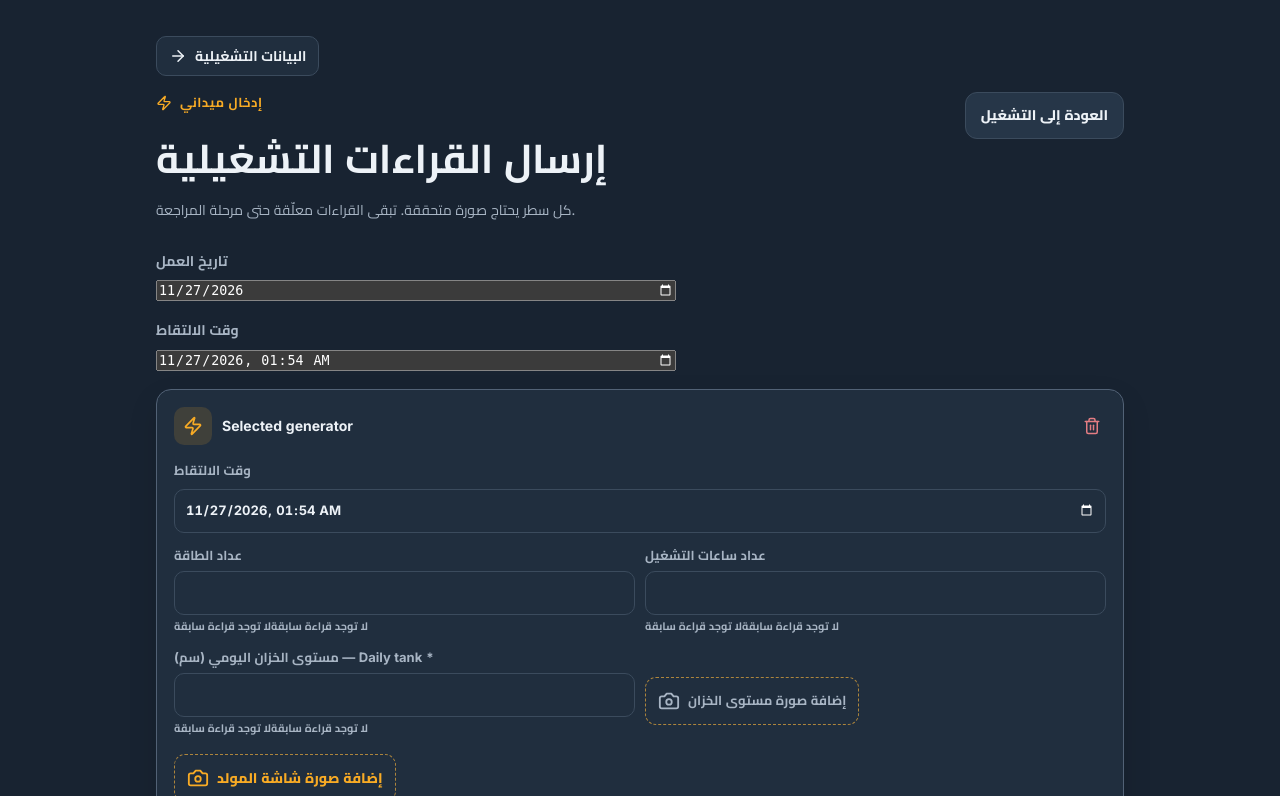
Test: surfaces readable InvalidOperationException and ArgumentOutOfRangeException messages from level-to-litres in UI
Step 1. Type "15" into the 3rd number field → {"x": 404, "y": 695}, box [174,673,635,717]
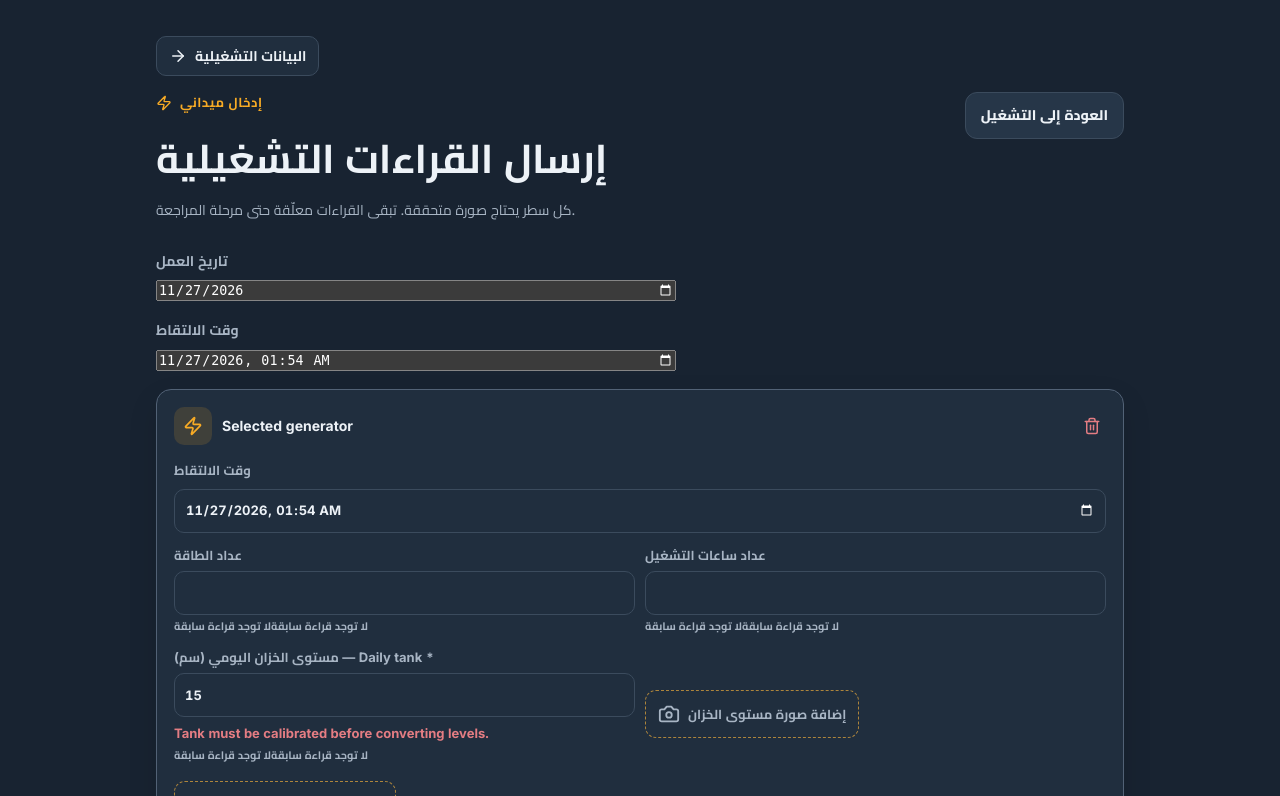
Expected: the text "Tank must be calibrated before converting levels." is shown, [174,725,489,741]
Step 2. Replace the text in the 3rd number field with "120" → {"x": 404, "y": 695}, box [174,673,635,717]
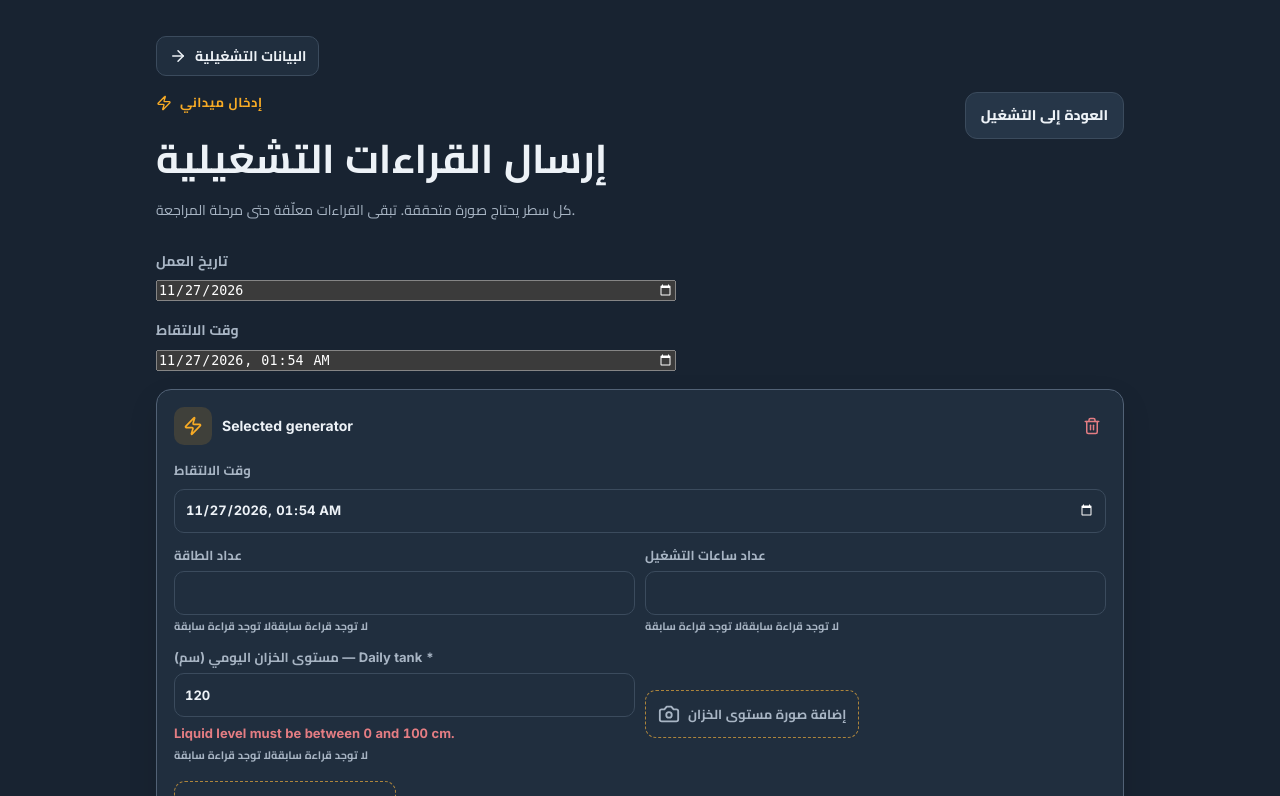
Expected: the text "Liquid level must be between 0 and 100 cm." is shown, [174,725,454,741]
